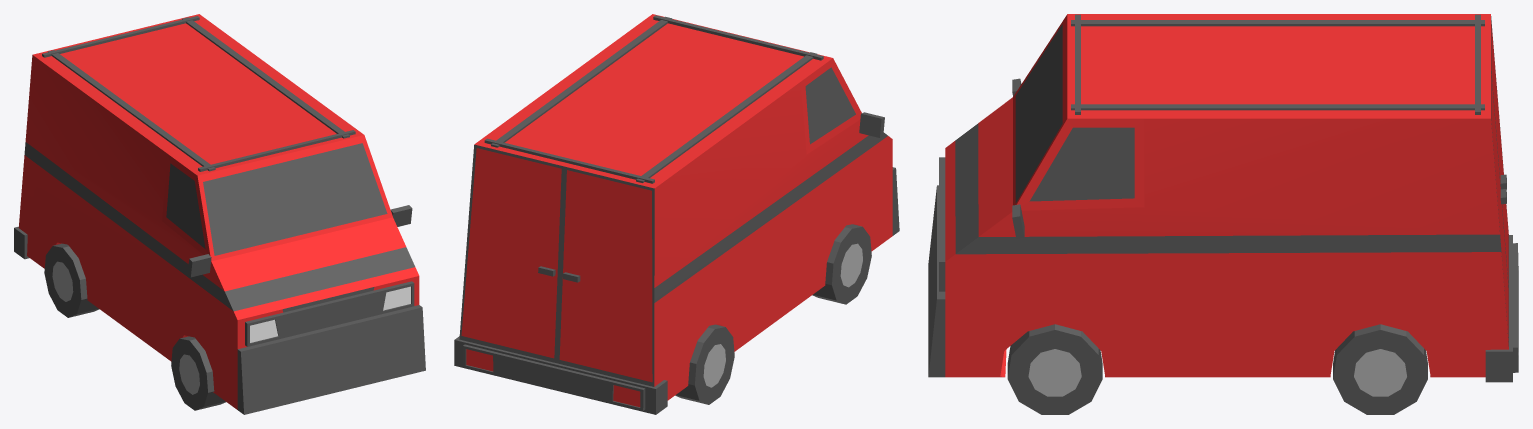
Rendered from SM_Car_04_05.FBX.
3 renders of one model, left to right at view 1: azimuth 30°, elevation 25°; view 2: azimuth 150°, elevation 25°; view 3: azimuth 270°, elevation 25°, orthographic. The views are drawn at different scales.
Visible parts, largest first — view 1: SM_Car_04_05, SM_Wheel_RBack001, SM_Wheel_LFront002; view 2: SM_Car_04_05, SM_Wheel_RBack001, SM_Wheel_LFront002; view 3: SM_Car_04_05, SM_Wheel_LFront001, SM_Wheel_LBack001.
Boxes of the visible parts, x1=… form: SM_Car_04_05: x1=14, y1=14, x2=425, y2=414; SM_Wheel_RBack001: x1=44, y1=243, x2=99, y2=317; SM_Wheel_LFront002: x1=171, y1=336, x2=225, y2=410; SM_Car_04_05: x1=454, y1=14, x2=899, y2=414; SM_Wheel_RBack001: x1=675, y1=324, x2=734, y2=404; SM_Wheel_LFront002: x1=812, y1=224, x2=871, y2=304; SM_Car_04_05: x1=928, y1=14, x2=1518, y2=382; SM_Wheel_LFront001: x1=1007, y1=324, x2=1102, y2=414; SM_Wheel_LBack001: x1=1333, y1=324, x2=1427, y2=414.
Bounding box in the file's own units: 1.7 × 1.68 × 3.08.
Materials: 1 (1 with a texture image).
